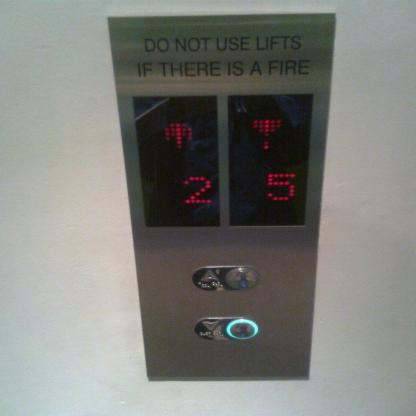down: (192, 316, 258, 340)
led: (132, 95, 222, 228), (226, 94, 312, 226)
up: (191, 266, 258, 292)
